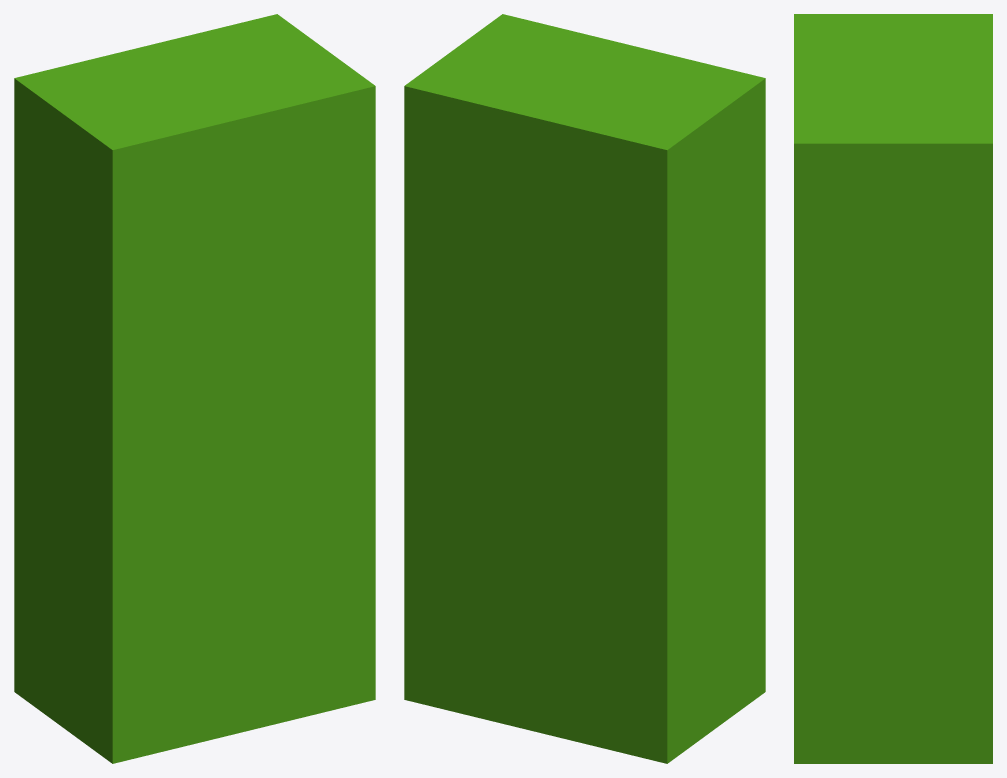
Rendered from pier_piece_t_broken.DAE.
The picture shows the model from 3 angles, left to right: view 1: azimuth 30°, elevation 25°; view 2: azimuth 150°, elevation 25°; view 3: azimuth 270°, elevation 25°; orthographic projection.
Visible parts, largest first — view 1: bounds; view 2: bounds; view 3: bounds.
Part boxes in pixels (x1,y1,x2,y2): bounds: (14,14,375,763); bounds: (404,14,765,763); bounds: (794,14,992,763).
Bounding box in the file's own units: 7.29 × 4.73 × 16.26.
